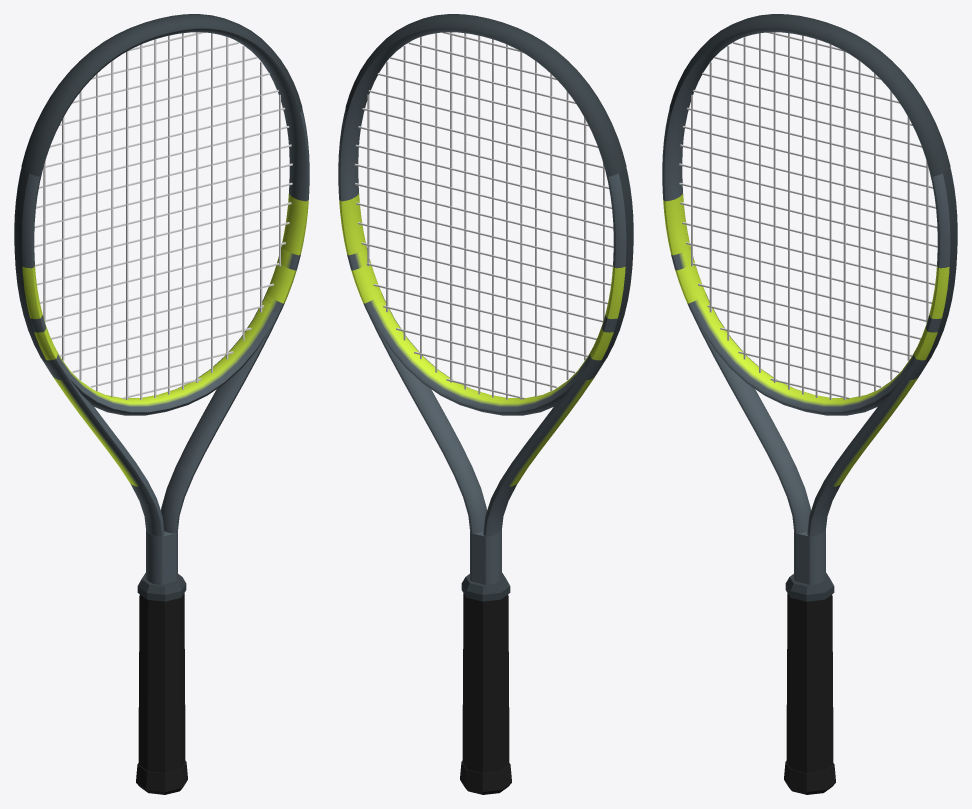
The model's file is babolat-pure-aero-100.glb.
3 views of the same model, side by side, from view 1: azimuth 30°, elevation 25°; view 2: azimuth 150°, elevation 25°; view 3: azimuth 330°, elevation 25° (orthographic).
Visible parts, largest first — view 1: frame, strings_mains, strings_crosses, grip, bumper, grommets, butt_cap, collar; view 2: frame, strings_mains, strings_crosses, grip, bumper, grommets, butt_cap, collar; view 3: frame, strings_mains, strings_crosses, grip, bumper, grommets, butt_cap, collar.
Part boxes in pixels (x1=…): frame: x1=14, y1=28, x2=309, y2=584; strings_mains: x1=43, y1=32, x2=280, y2=399; strings_crosses: x1=34, y1=32, x2=292, y2=399; grip: x1=138, y1=593, x2=185, y2=772; bumper: x1=21, y1=14, x2=302, y2=176; grommets: x1=14, y1=168, x2=47, y2=362; butt_cap: x1=136, y1=761, x2=187, y2=794; collar: x1=137, y1=573, x2=186, y2=601; frame: x1=338, y1=28, x2=633, y2=584; strings_mains: x1=367, y1=32, x2=604, y2=399; strings_crosses: x1=354, y1=32, x2=613, y2=399; grip: x1=462, y1=593, x2=509, y2=772; bumper: x1=345, y1=14, x2=626, y2=176; grommets: x1=600, y1=168, x2=633, y2=362; butt_cap: x1=460, y1=761, x2=511, y2=794; collar: x1=461, y1=573, x2=510, y2=601; frame: x1=662, y1=28, x2=957, y2=584; strings_mains: x1=691, y1=32, x2=928, y2=399; strings_crosses: x1=679, y1=32, x2=937, y2=399; grip: x1=786, y1=593, x2=833, y2=772; bumper: x1=669, y1=14, x2=950, y2=176; grommets: x1=924, y1=168, x2=957, y2=362; butt_cap: x1=784, y1=761, x2=835, y2=794; collar: x1=785, y1=573, x2=834, y2=601.
Size of the model in its own units: 0.2718 by 0.6861 by 0.0396.
